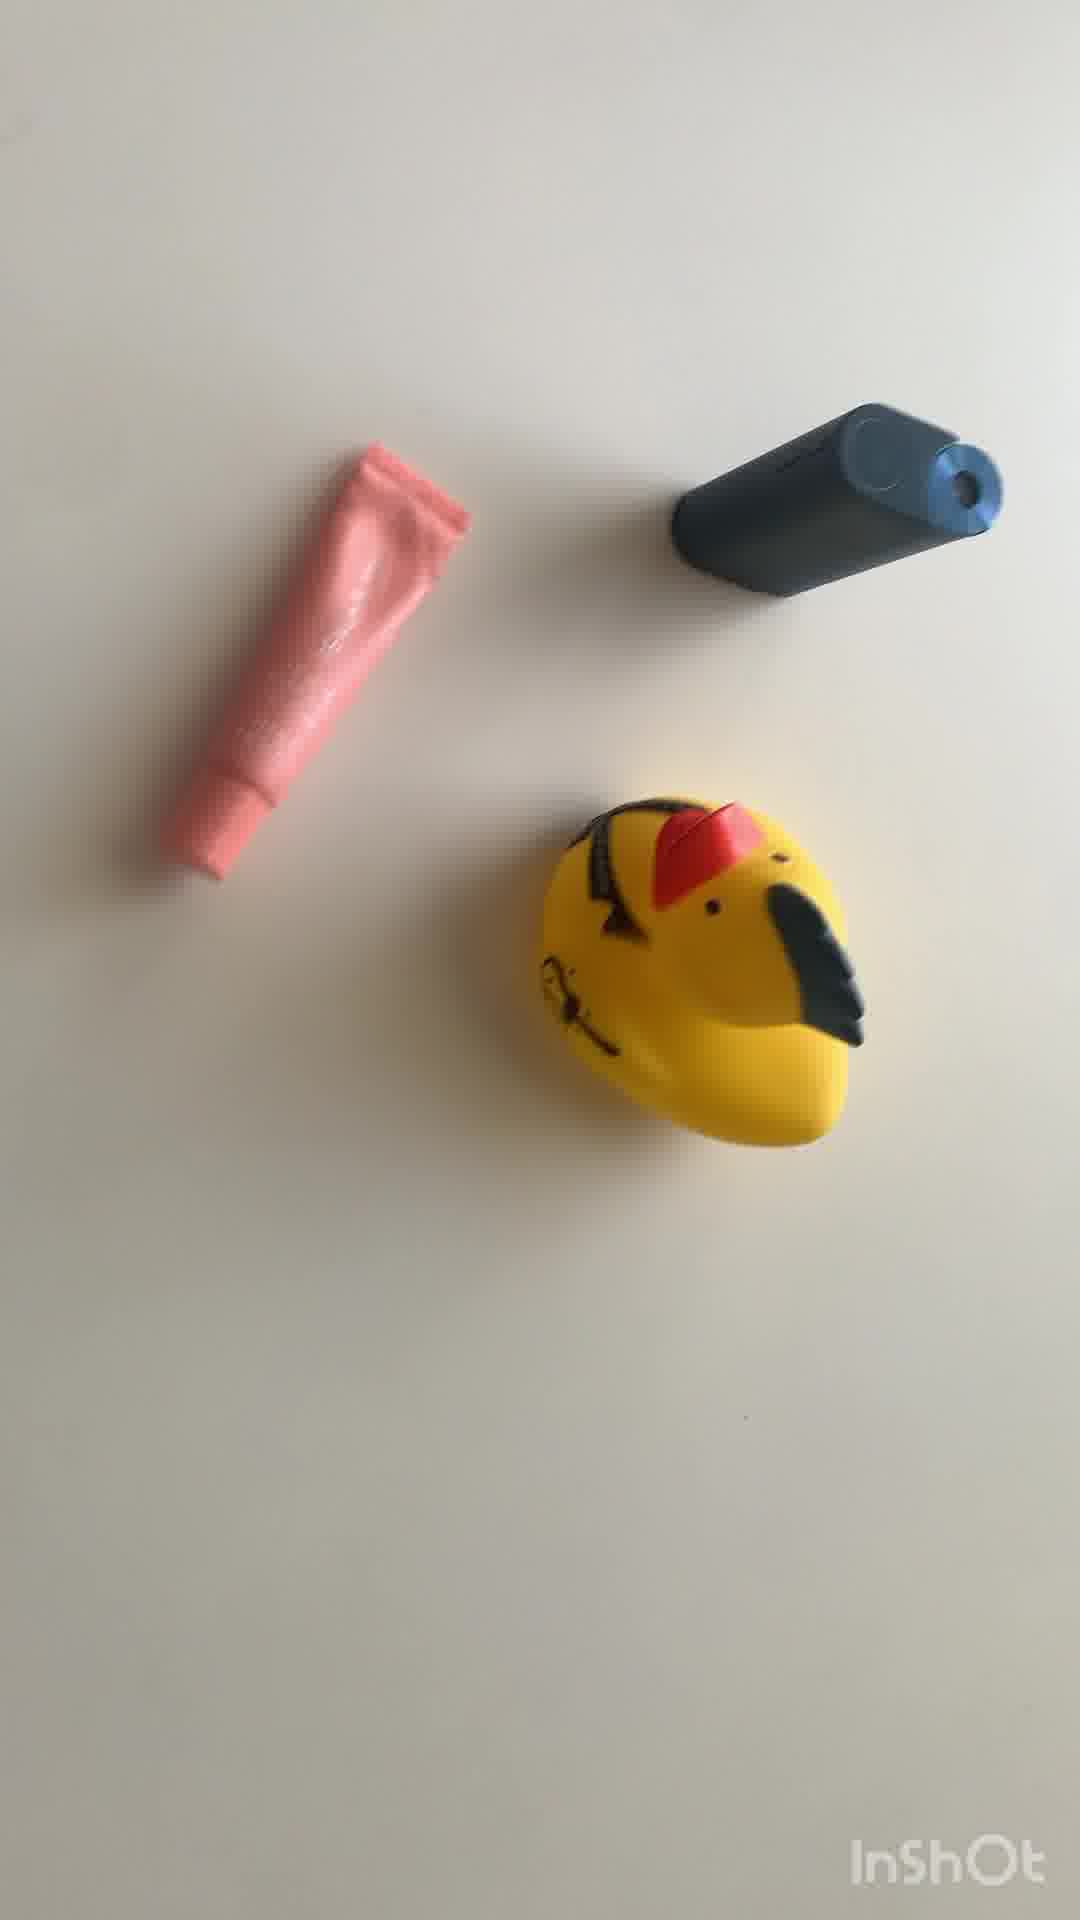duck: (533, 790, 872, 1146)
glo: (655, 398, 1015, 603)
lip balm: (164, 452, 469, 893)
